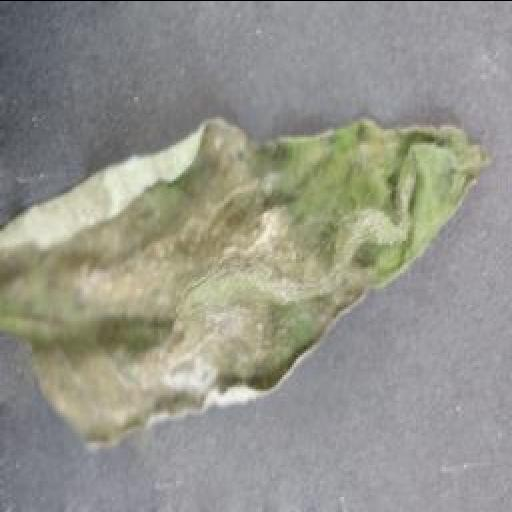disease_tomato: (0, 106, 496, 458)
